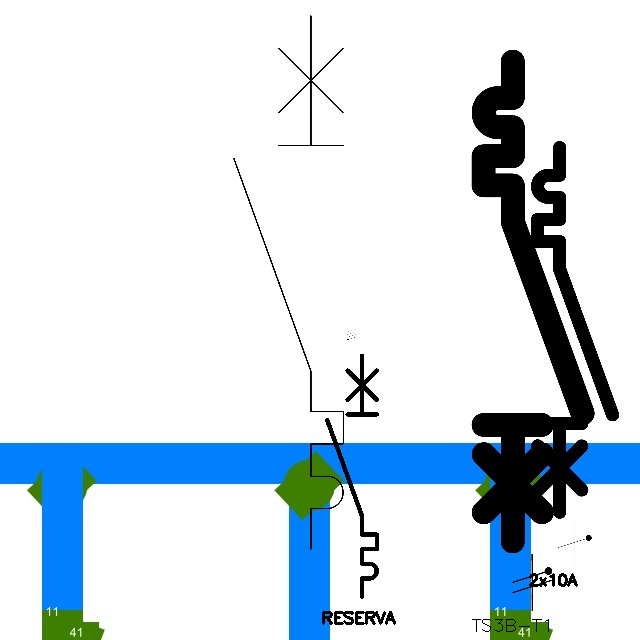interruptor_termomagnetico: (220, 2, 357, 563), (471, 49, 594, 554), (528, 138, 622, 521), (321, 349, 383, 602)
